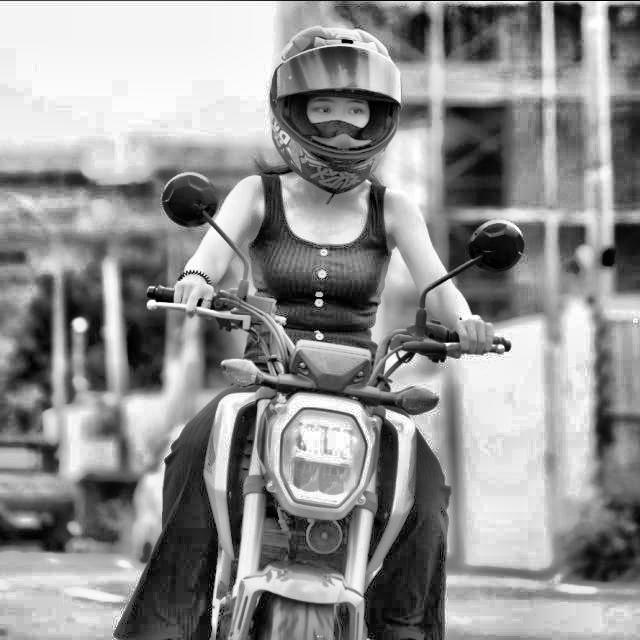Helmet: (264, 22, 406, 200)
